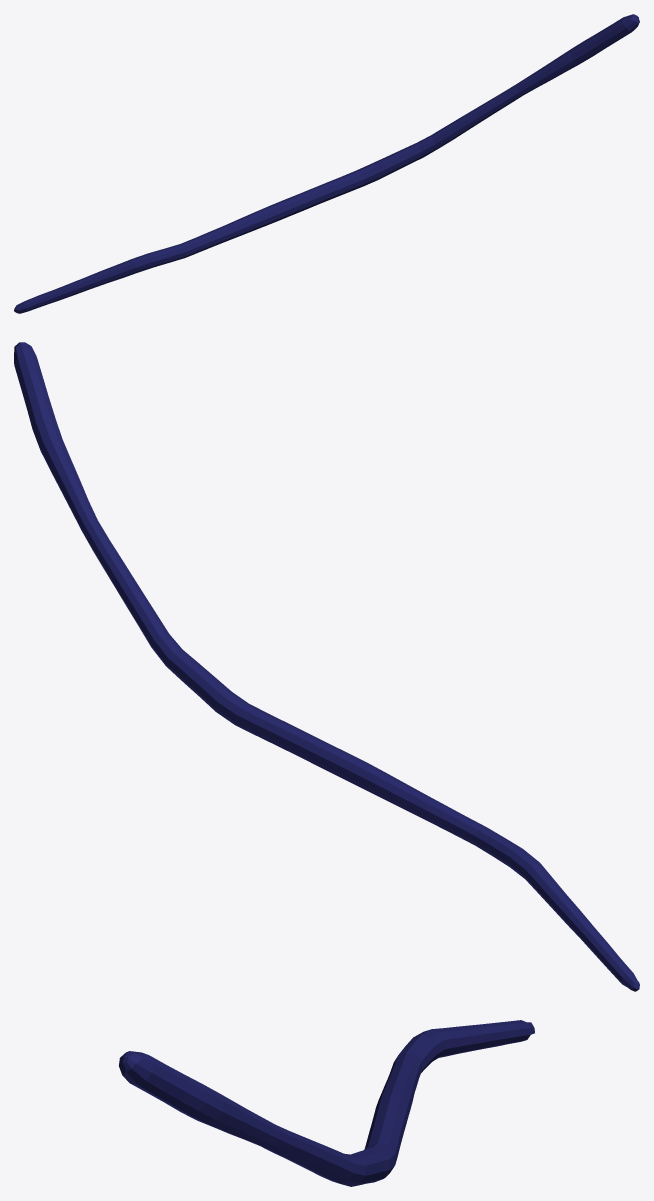
Rendered from Trochlear_nerve_R.glb.
The picture shows the model from 3 angles, top to bottom: view 1: azimuth 30°, elevation 25°; view 2: azimuth 150°, elevation 25°; view 3: azimuth 270°, elevation 25°; orthographic projection. The views are drawn at different scales.
Visible parts, largest first — view 1: Trochlear_nerve_R; view 2: Trochlear_nerve_R; view 3: Trochlear_nerve_R.
Part boxes in pixels (x1,y1,x2,y2): Trochlear_nerve_R: (14, 14, 639, 313); Trochlear_nerve_R: (14, 342, 639, 991); Trochlear_nerve_R: (119, 1020, 534, 1186).
Bounding box in the file's own units: 0.076 × 0.0338 × 0.0261.
1 material, 1 textured.
